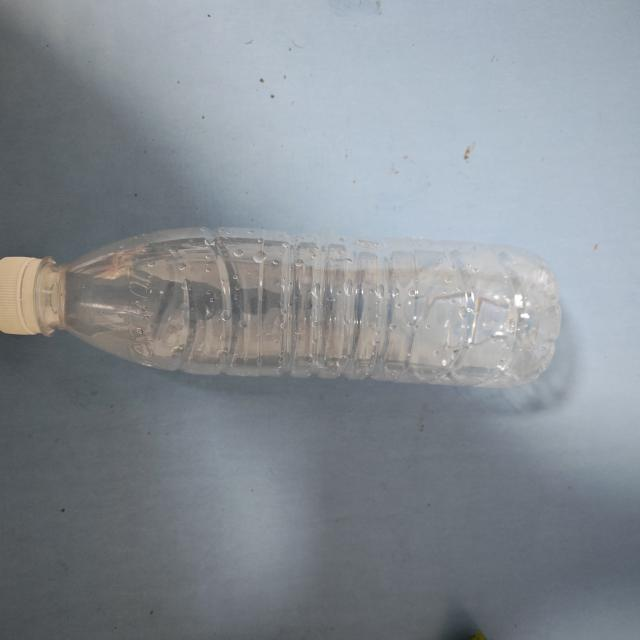-Recyclables - plastic bottle-: (4, 214, 560, 397)
